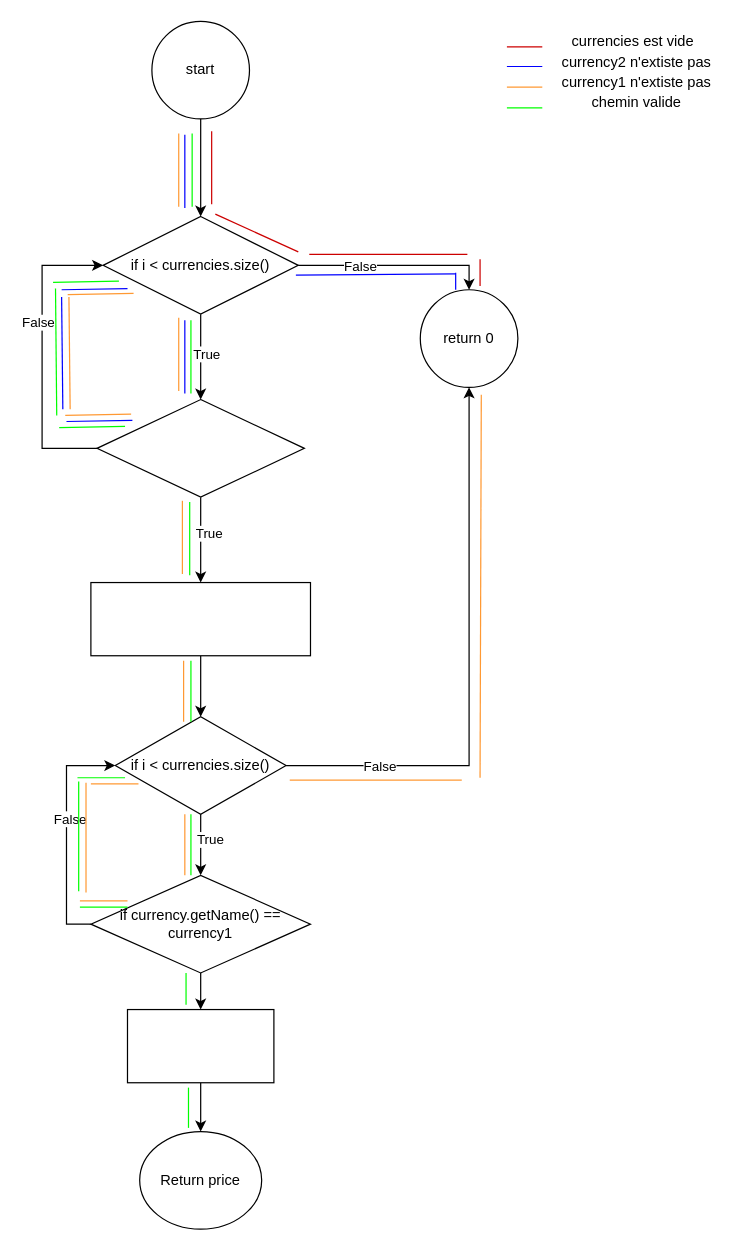
This 742x1251 diagram has some shape labels left out. The box of each missing label's shape, as (x1, y1, x2, y2) in pixels:
if currency.getName() == currency2: (96, 398, 304, 497)
price = exchangeValue * amount: (126, 1008, 274, 1083)
shortNameCurrency = getShortName(): (90, 581, 310, 656)
